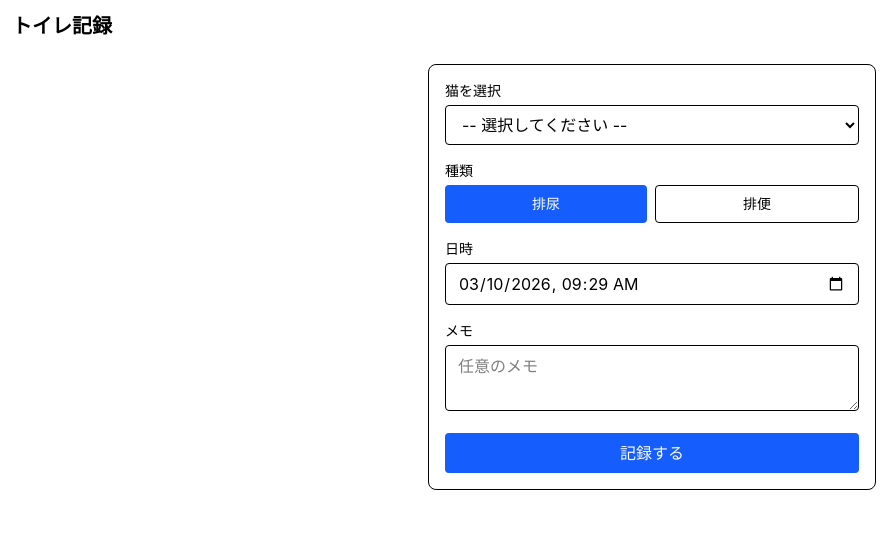
LogsPage › should show validation error when no cat is selected
This screenshot has width=893, height=543.
Click the button "記録する" at (652, 453), box [445,433,859,473]
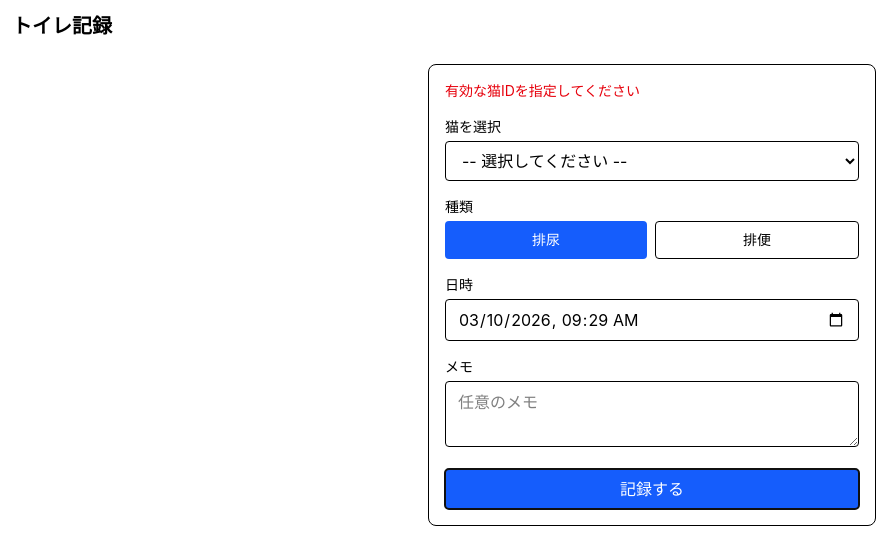
Expected: the text "有効な猫IDを指定してください" is shown, [445,82,640,99]
